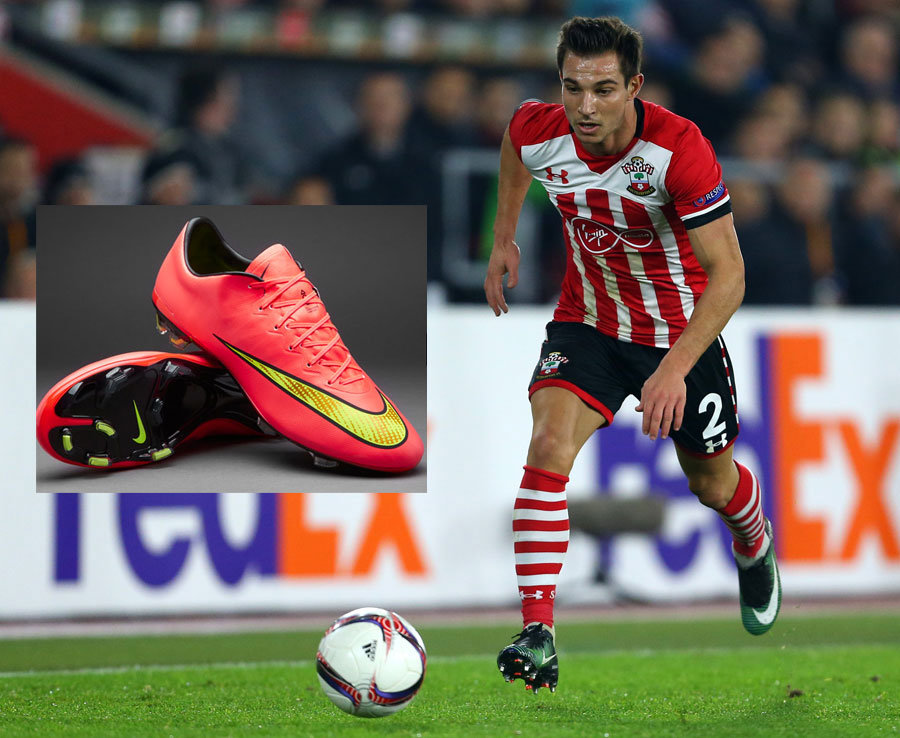football boots: (154, 218, 423, 470), (36, 349, 266, 471), (727, 523, 782, 637), (497, 625, 561, 696)
